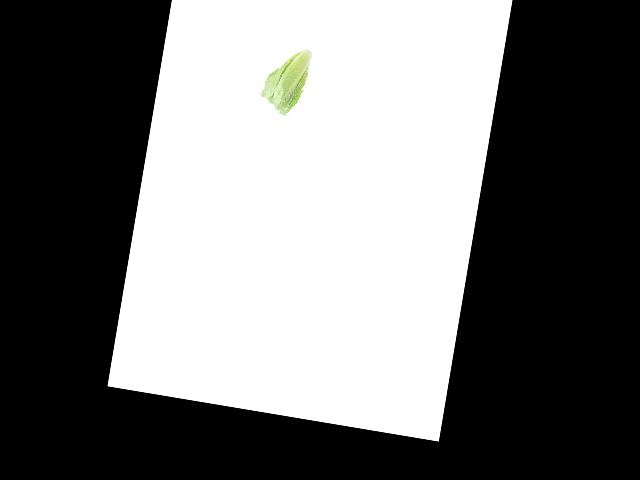lettuce: (257, 36, 314, 118)
